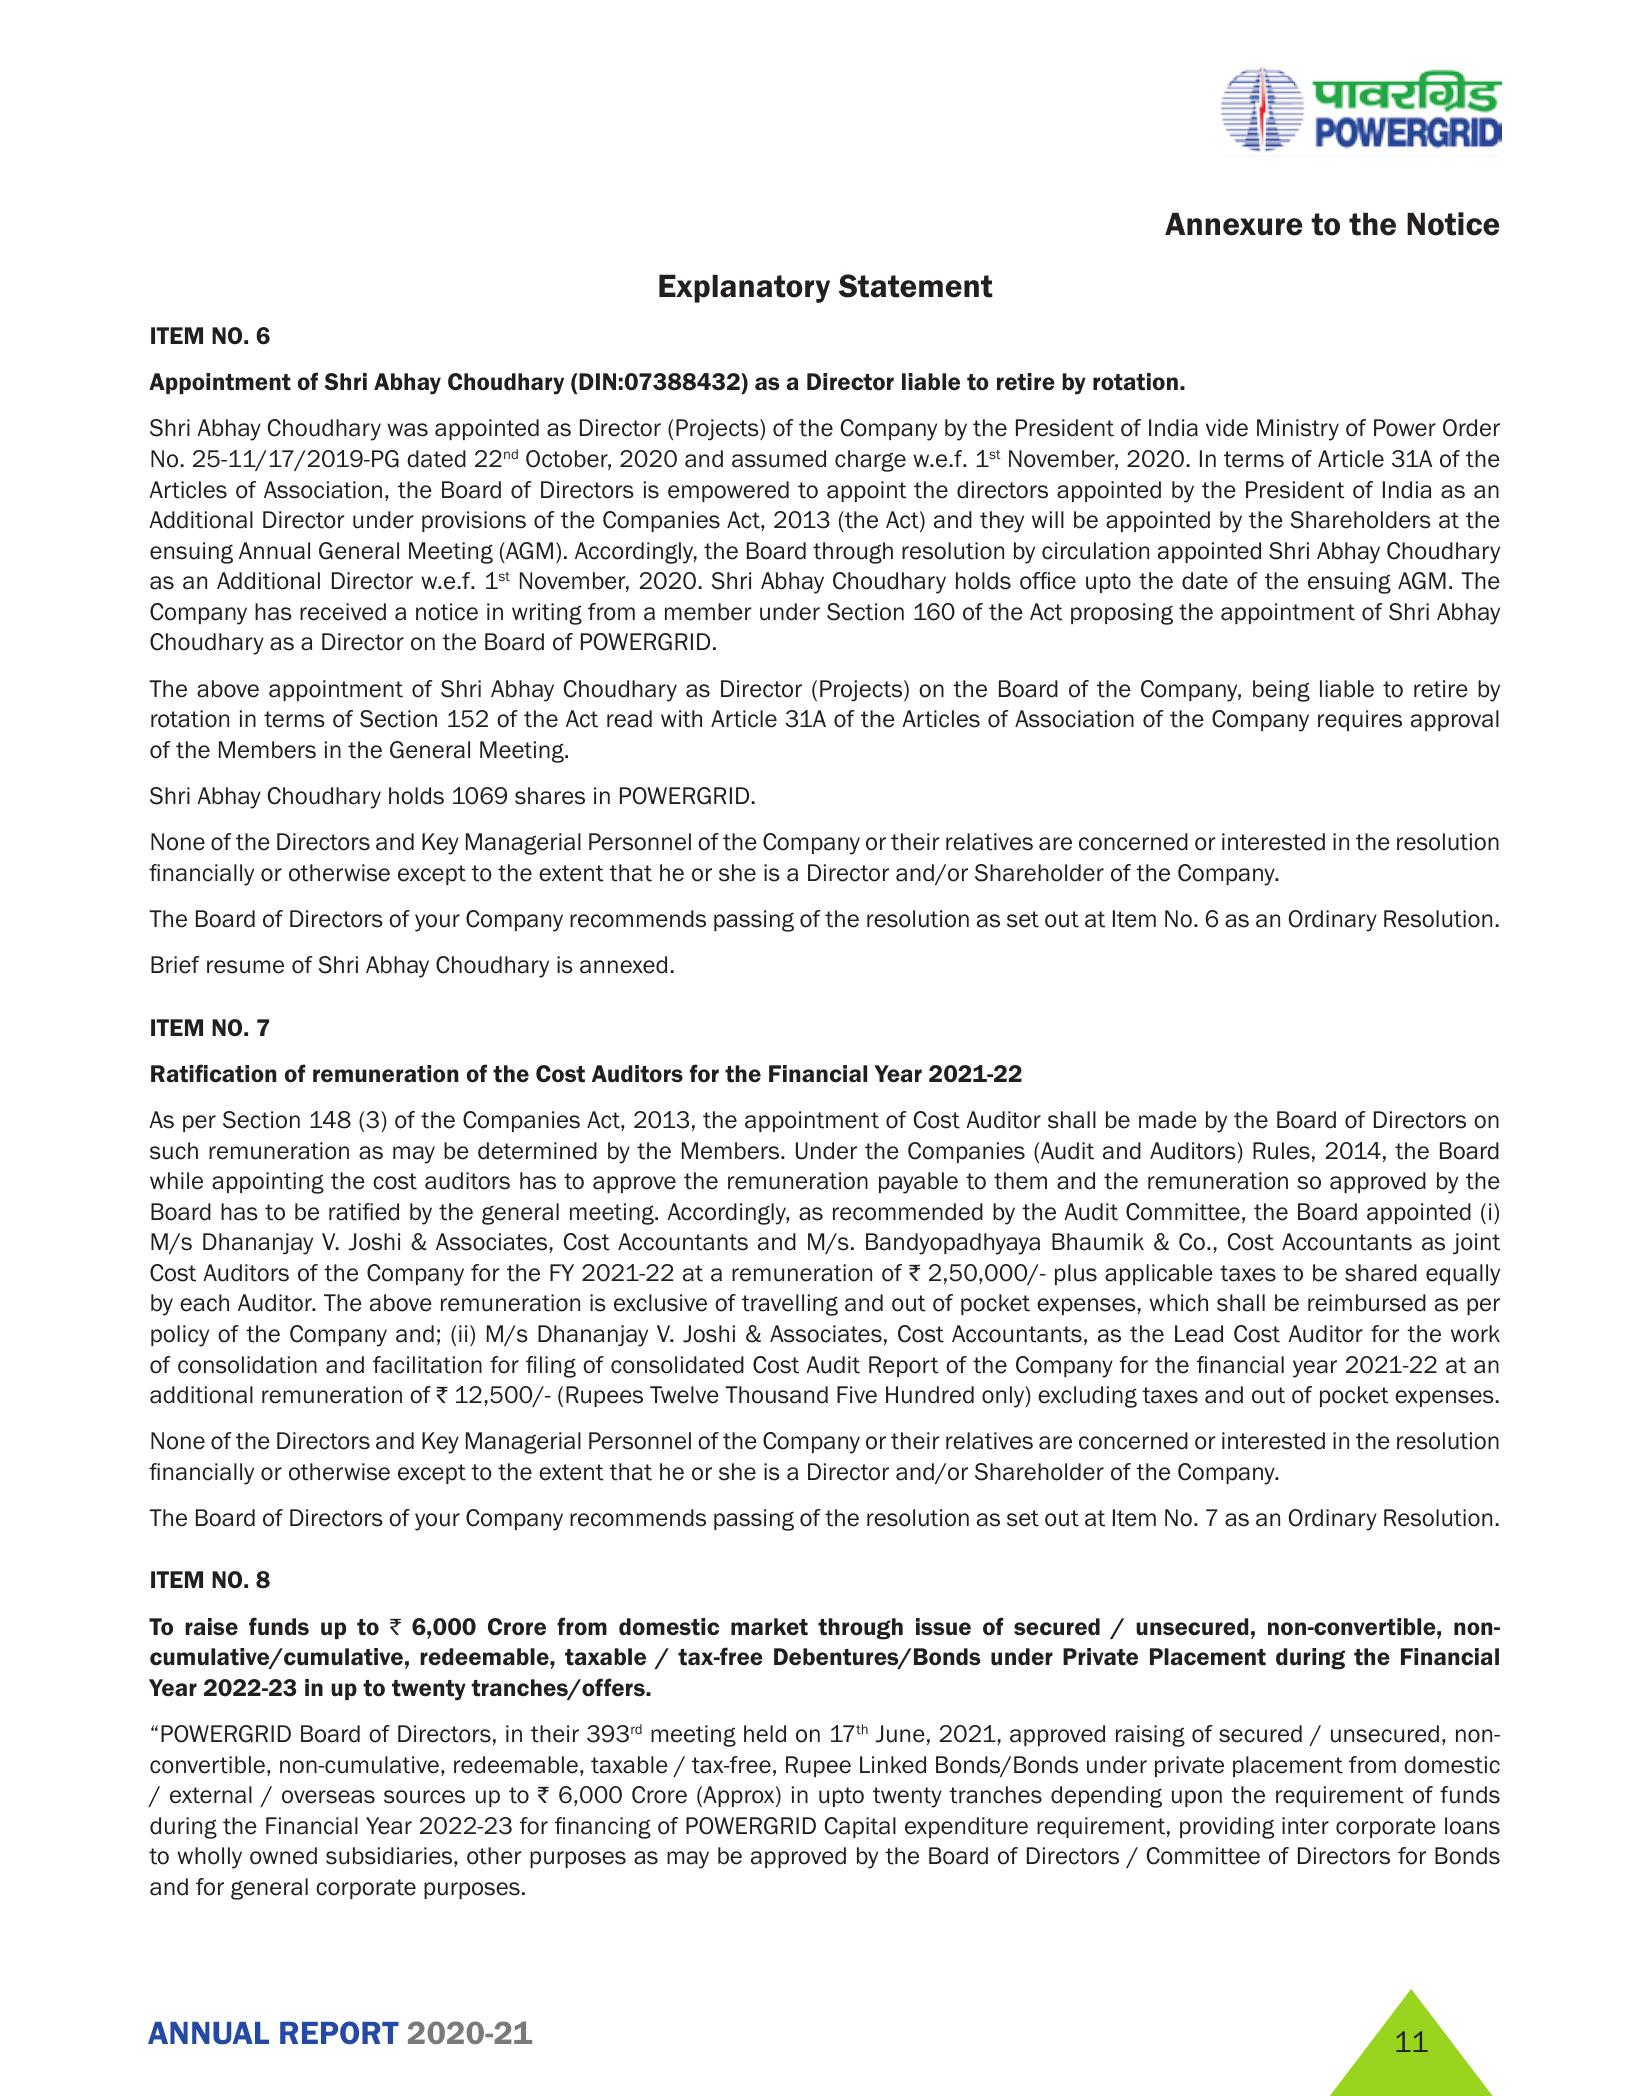Footer: (0, 1962, 1650, 2096)
Header: (15, 0, 1650, 184)
